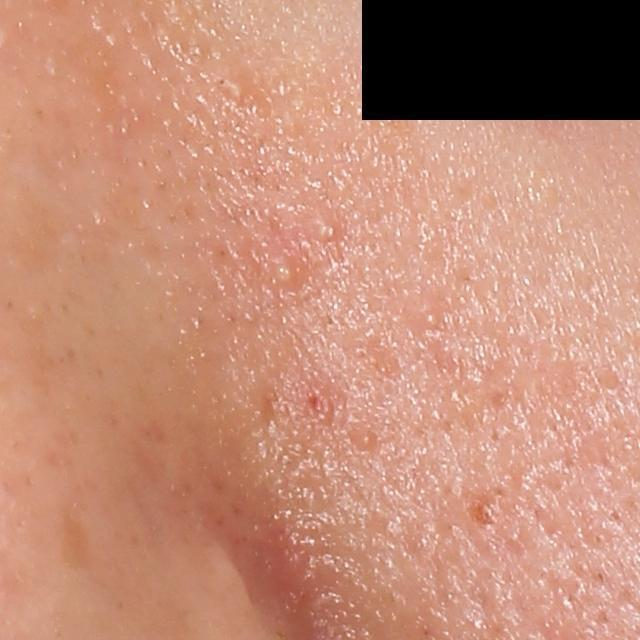comedo: (413, 301, 451, 340), (220, 77, 249, 105), (350, 428, 379, 453)
pustule: (262, 246, 306, 292)
